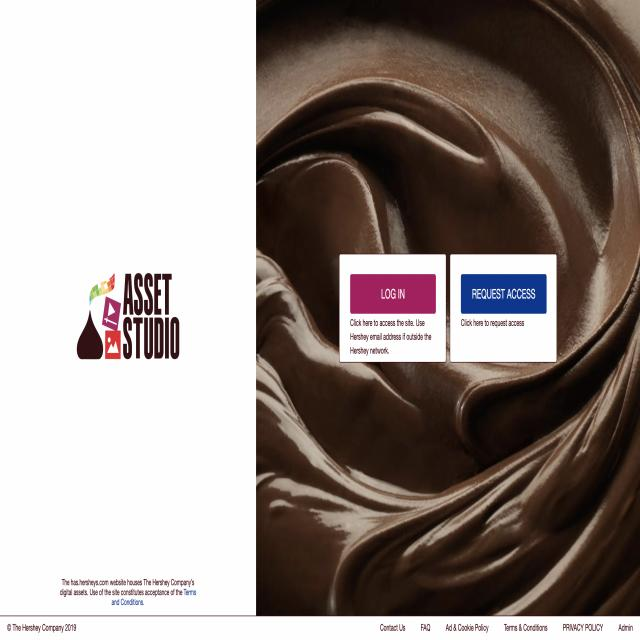Logo: (65, 250, 191, 370)
